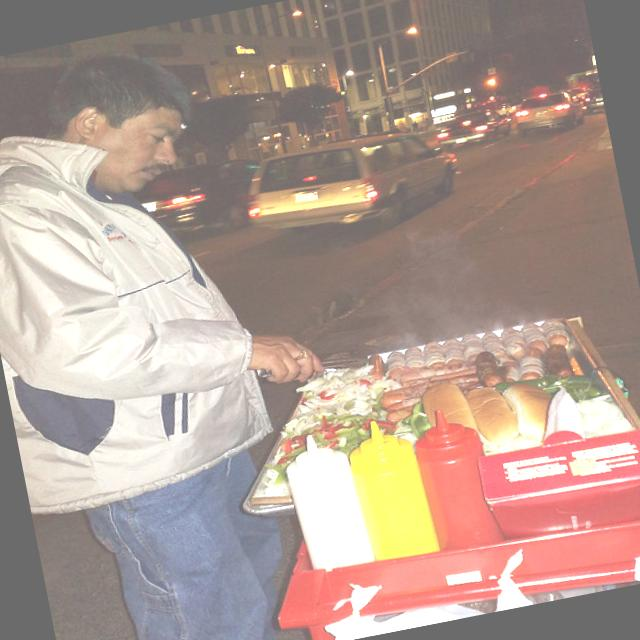Vehicle: (238, 116, 469, 245), (132, 152, 272, 246), (511, 88, 588, 141), (433, 105, 516, 153), (584, 96, 605, 113)
